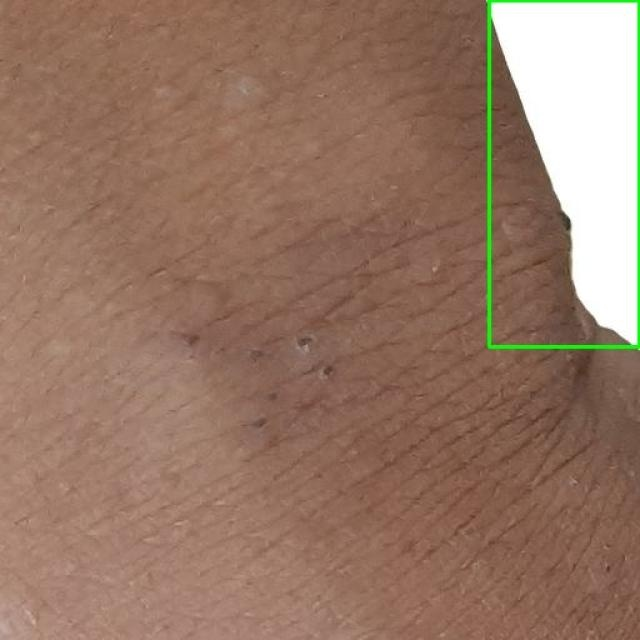Scabies: (489, 0, 639, 346)
